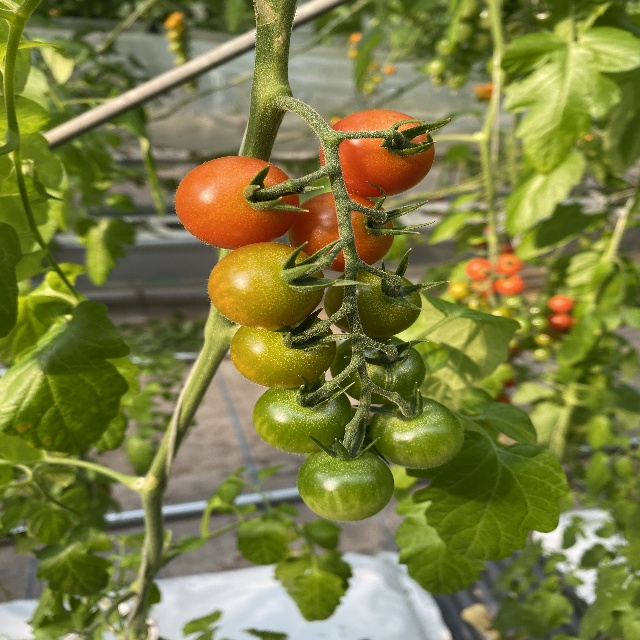l_fully_ripened: (173, 156, 302, 249), (318, 109, 436, 197)
l_green: (251, 378, 352, 454), (295, 445, 396, 521), (369, 395, 465, 470), (324, 267, 422, 338), (330, 335, 426, 405)
l_half_ripened: (207, 241, 327, 330), (289, 190, 395, 271), (230, 315, 337, 391)
